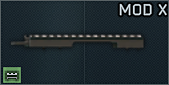Remington M700 AB Arms MOD*X rail mount: (0, 0, 169, 85)
